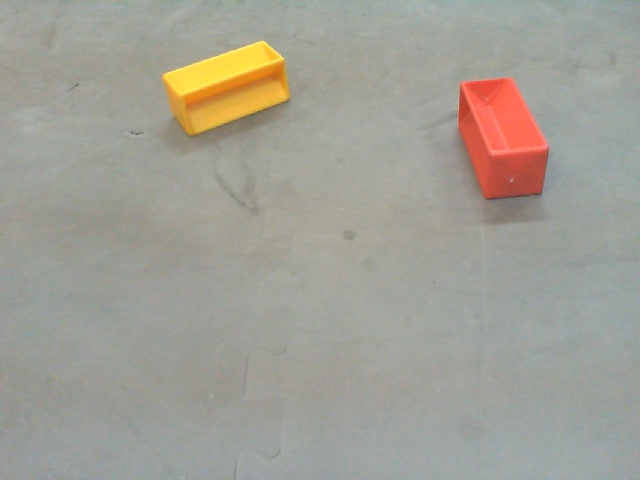RedSample: (458, 75, 554, 200)
YellowSample: (157, 37, 291, 140)
